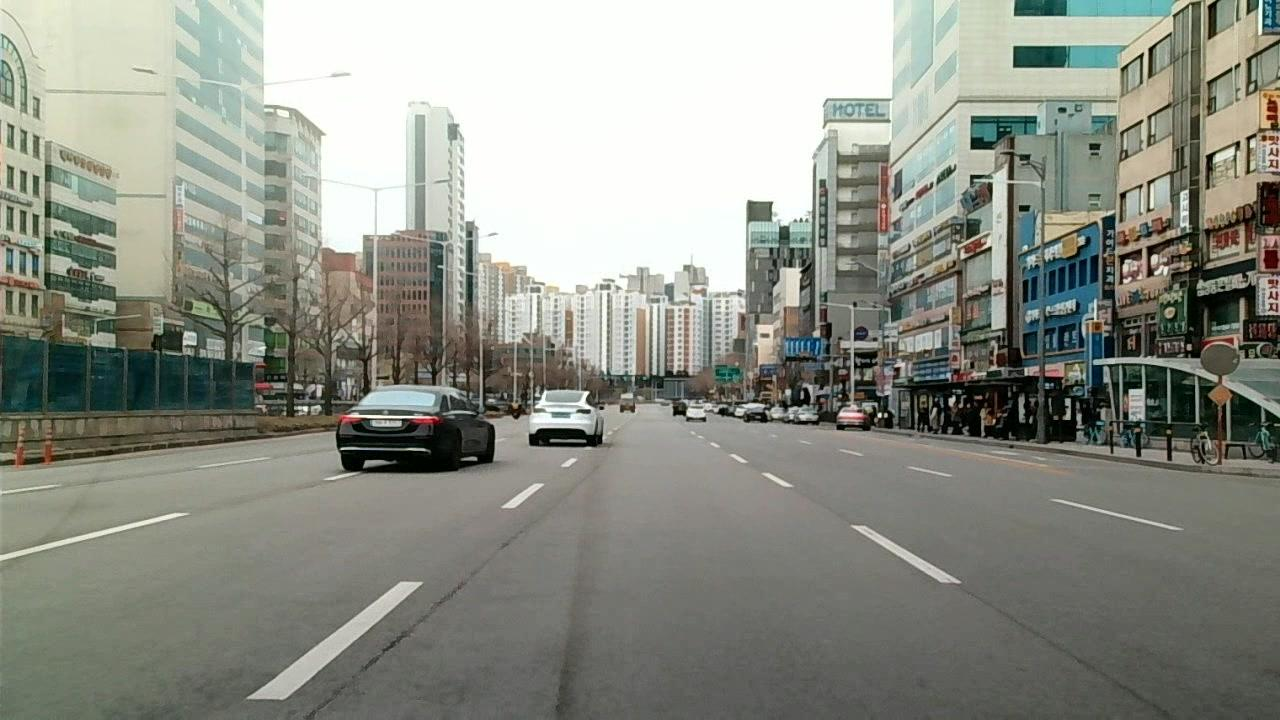vcrack: (1053, 648, 1167, 719), (289, 648, 384, 720), (389, 574, 471, 644), (955, 582, 1044, 638), (476, 523, 533, 575)
